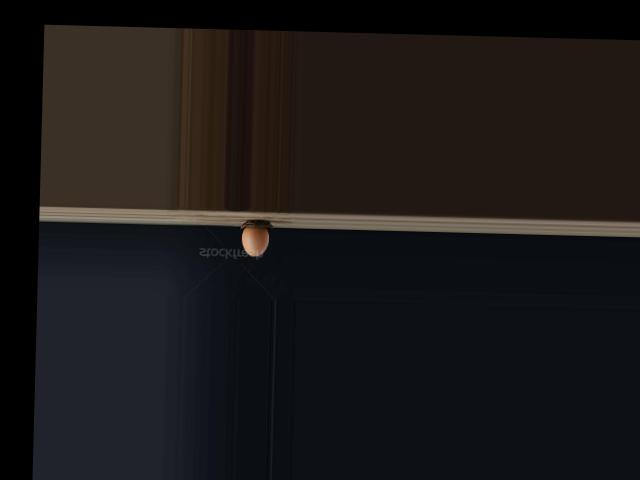egg: (242, 226, 270, 256)
